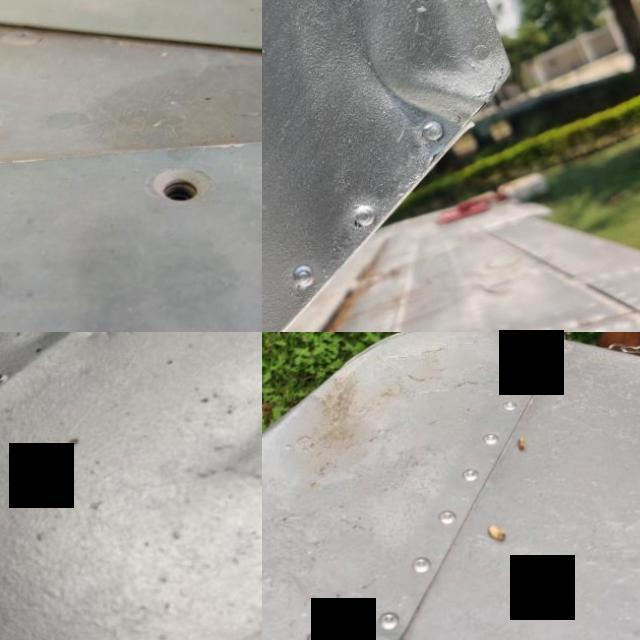Dent: (357, 36, 504, 166), (167, 360, 262, 502), (7, 332, 135, 378), (262, 428, 312, 535)
Missing_Fastener: (133, 149, 230, 229)
